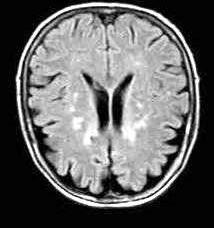Normal_Brain: (1, 1, 214, 228)
